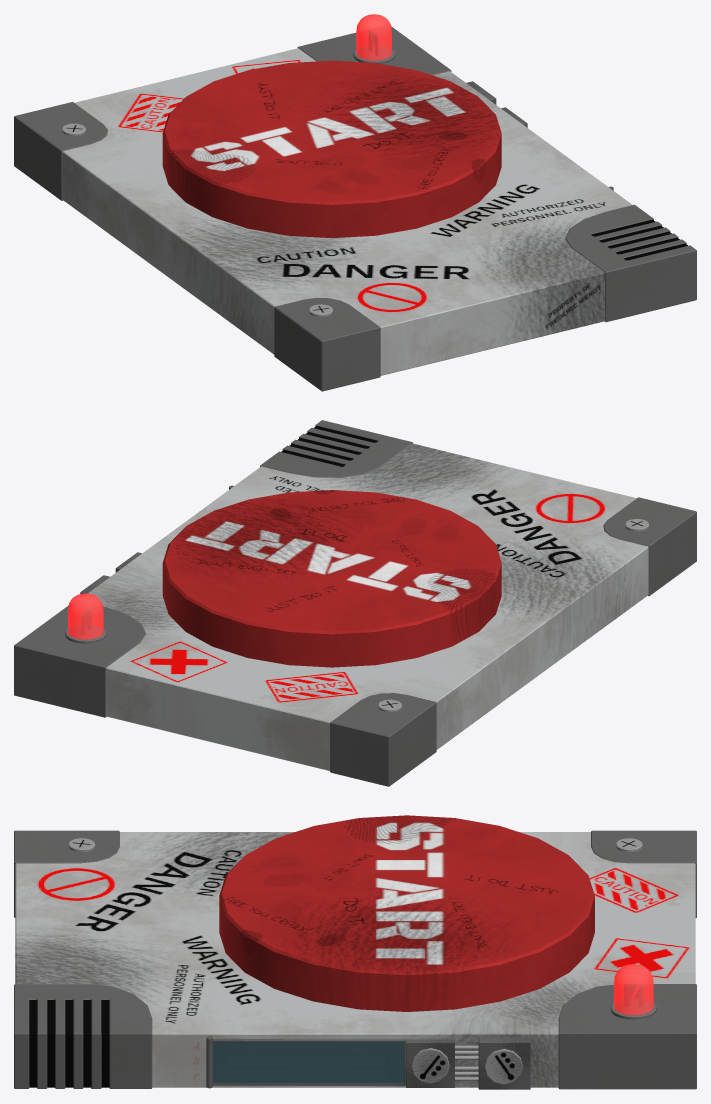
3 renders of one model, top to bottom at view 1: azimuth 30°, elevation 25°; view 2: azimuth 150°, elevation 25°; view 3: azimuth 270°, elevation 25°, orthographic. The views are drawn at different scales.
Visible parts, largest first — view 1: BoomButton_01; view 2: BoomButton_01; view 3: BoomButton_01.
Part boxes in pixels (x1=…): BoomButton_01: x1=14, y1=14, x2=696, y2=391; BoomButton_01: x1=14, y1=420, x2=696, y2=786; BoomButton_01: x1=14, y1=815, x2=696, y2=1089.
Bounding box in the file's own units: 8.52 × 1.94 × 11.77.
11 materials, 11 textured.
